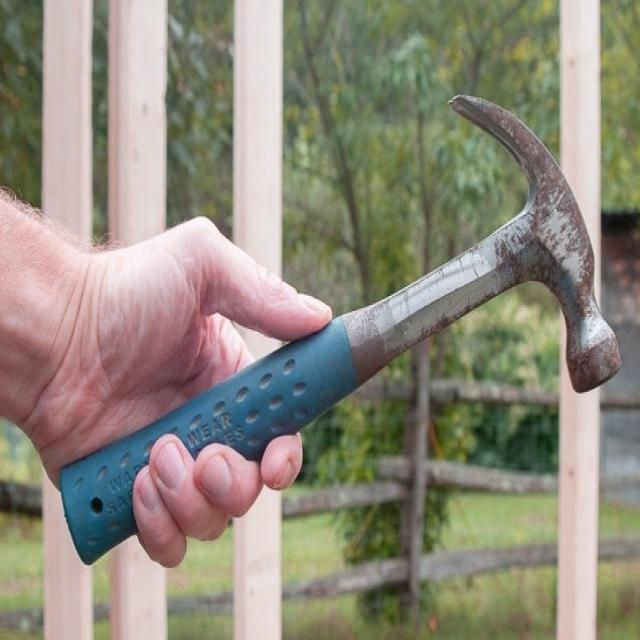hammer: (54, 88, 622, 567)
